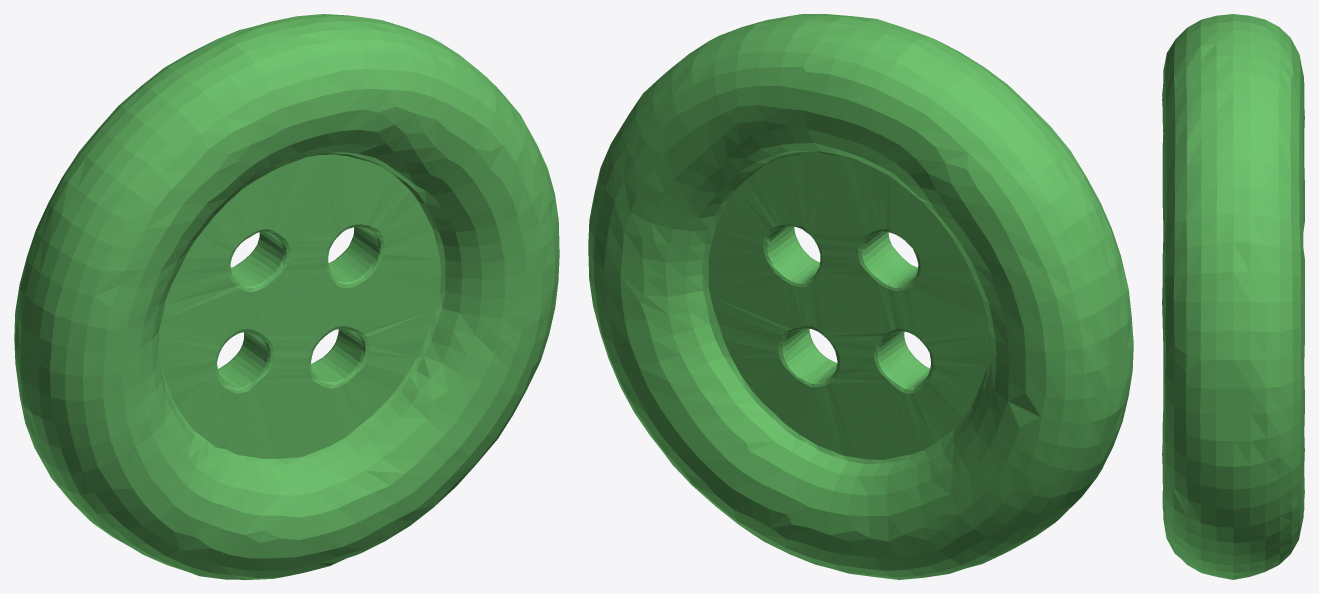
Rendered from Green_Button_plastic.glb.
3 views of the same model, side by side, from view 1: azimuth 30°, elevation 25°; view 2: azimuth 150°, elevation 25°; view 3: azimuth 270°, elevation 25° (orthographic). The views are drawn at different scales.
Visible parts, largest first — view 1: mesh_node; view 2: mesh_node; view 3: mesh_node.
Boxes of the visible parts, x1,y1,x2,y2 form: mesh_node: (14, 14, 559, 579); mesh_node: (588, 14, 1133, 579); mesh_node: (1162, 14, 1304, 579).
Bounding box in the file's own units: 1 × 1 × 0.2539.
Materials: 1 (1 with a texture image).
